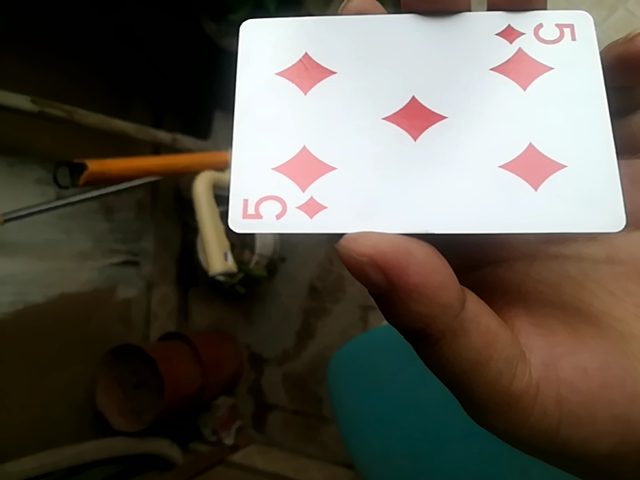fk 5: (224, 5, 625, 245)
